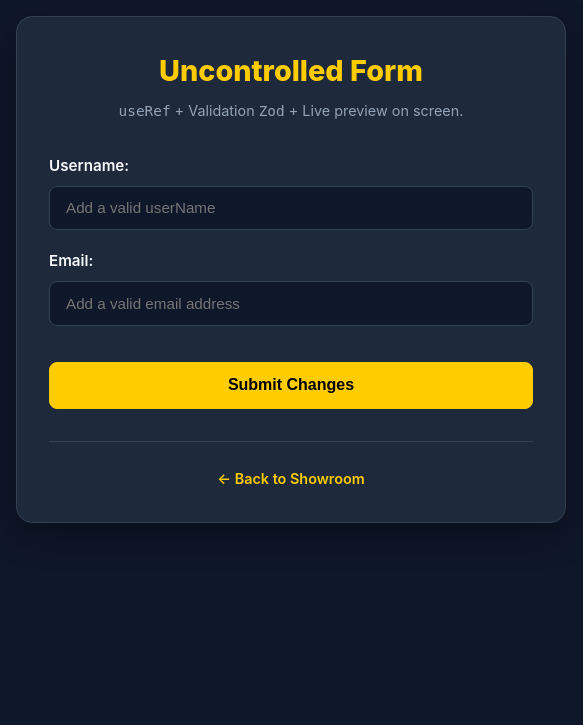
ProfileForm Component › It should display the filed contents in the Submitted Data section
This screenshot has width=583, height=725.
It simulates typing in the username input field
In the field with placeholder "Add a valid userName": (291, 208) [49,186,533,230], type "user1"
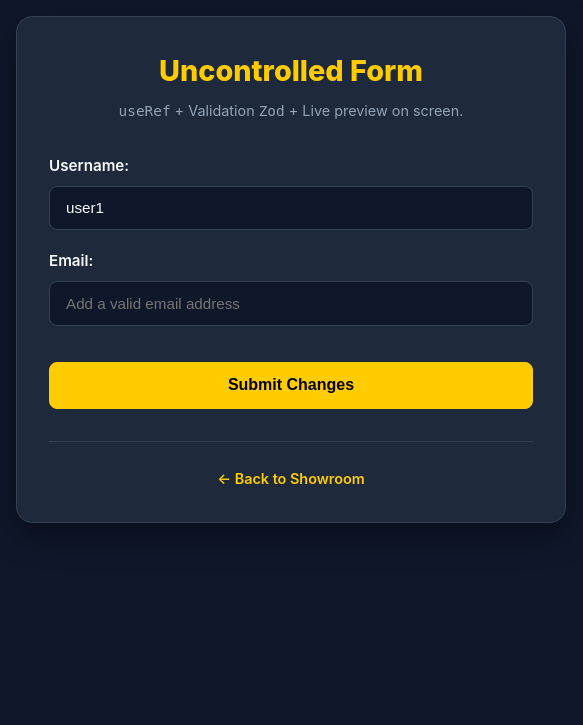
In the field with placeholder "Add a valid email address": (291, 303) [49,281,533,326], type "user1@email.com"
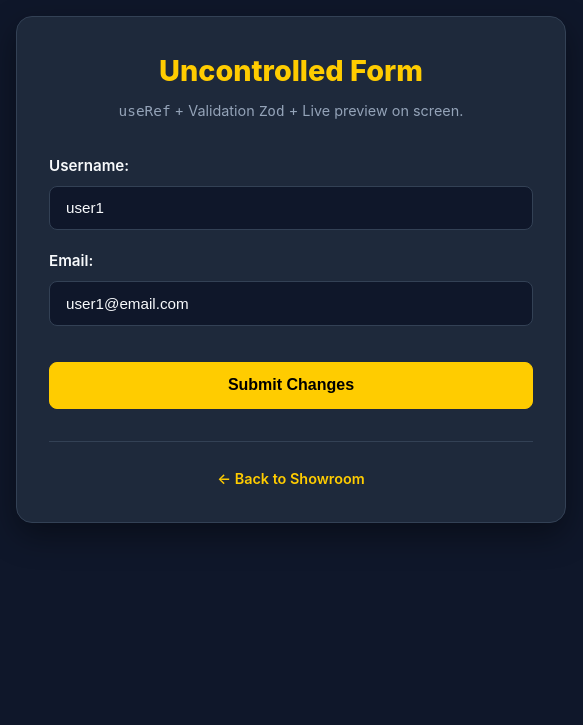
It simulates clicking the submit button
Click the button "Submit Changes": (291, 385) [49,362,533,409]
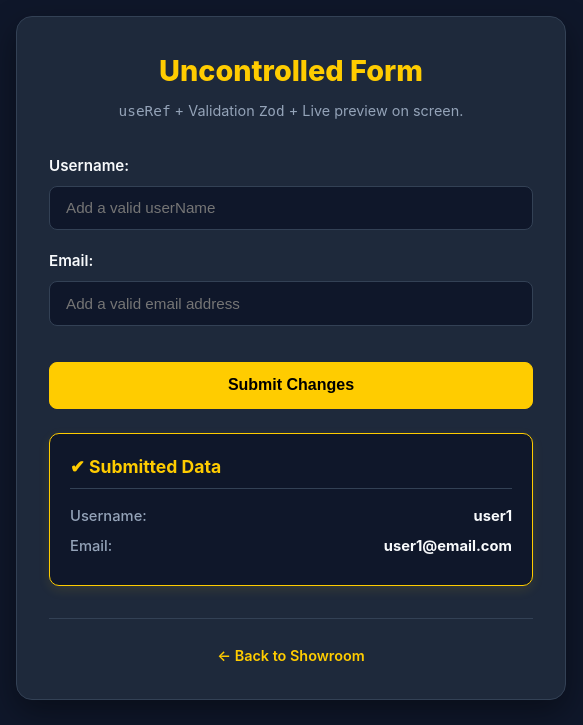
Check: the text "user1" is shown, box [474,505,512,527]
Check: the text "user1@email.com" is shown, box [384,535,512,557]
